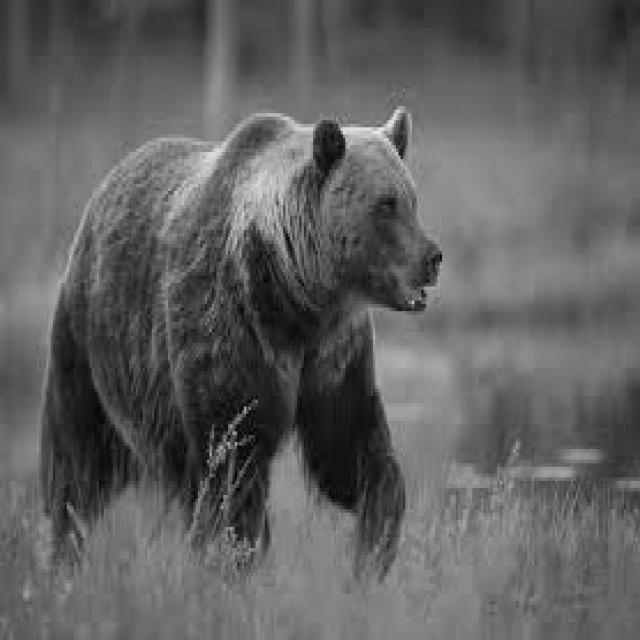Bear: (54, 106, 452, 571)
